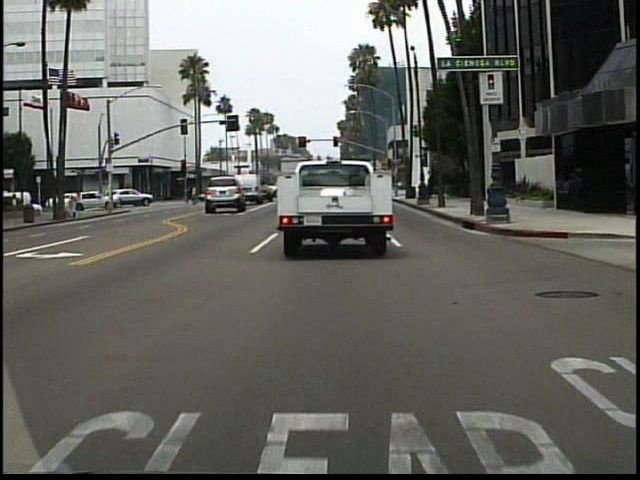person: (75, 188, 88, 213)
